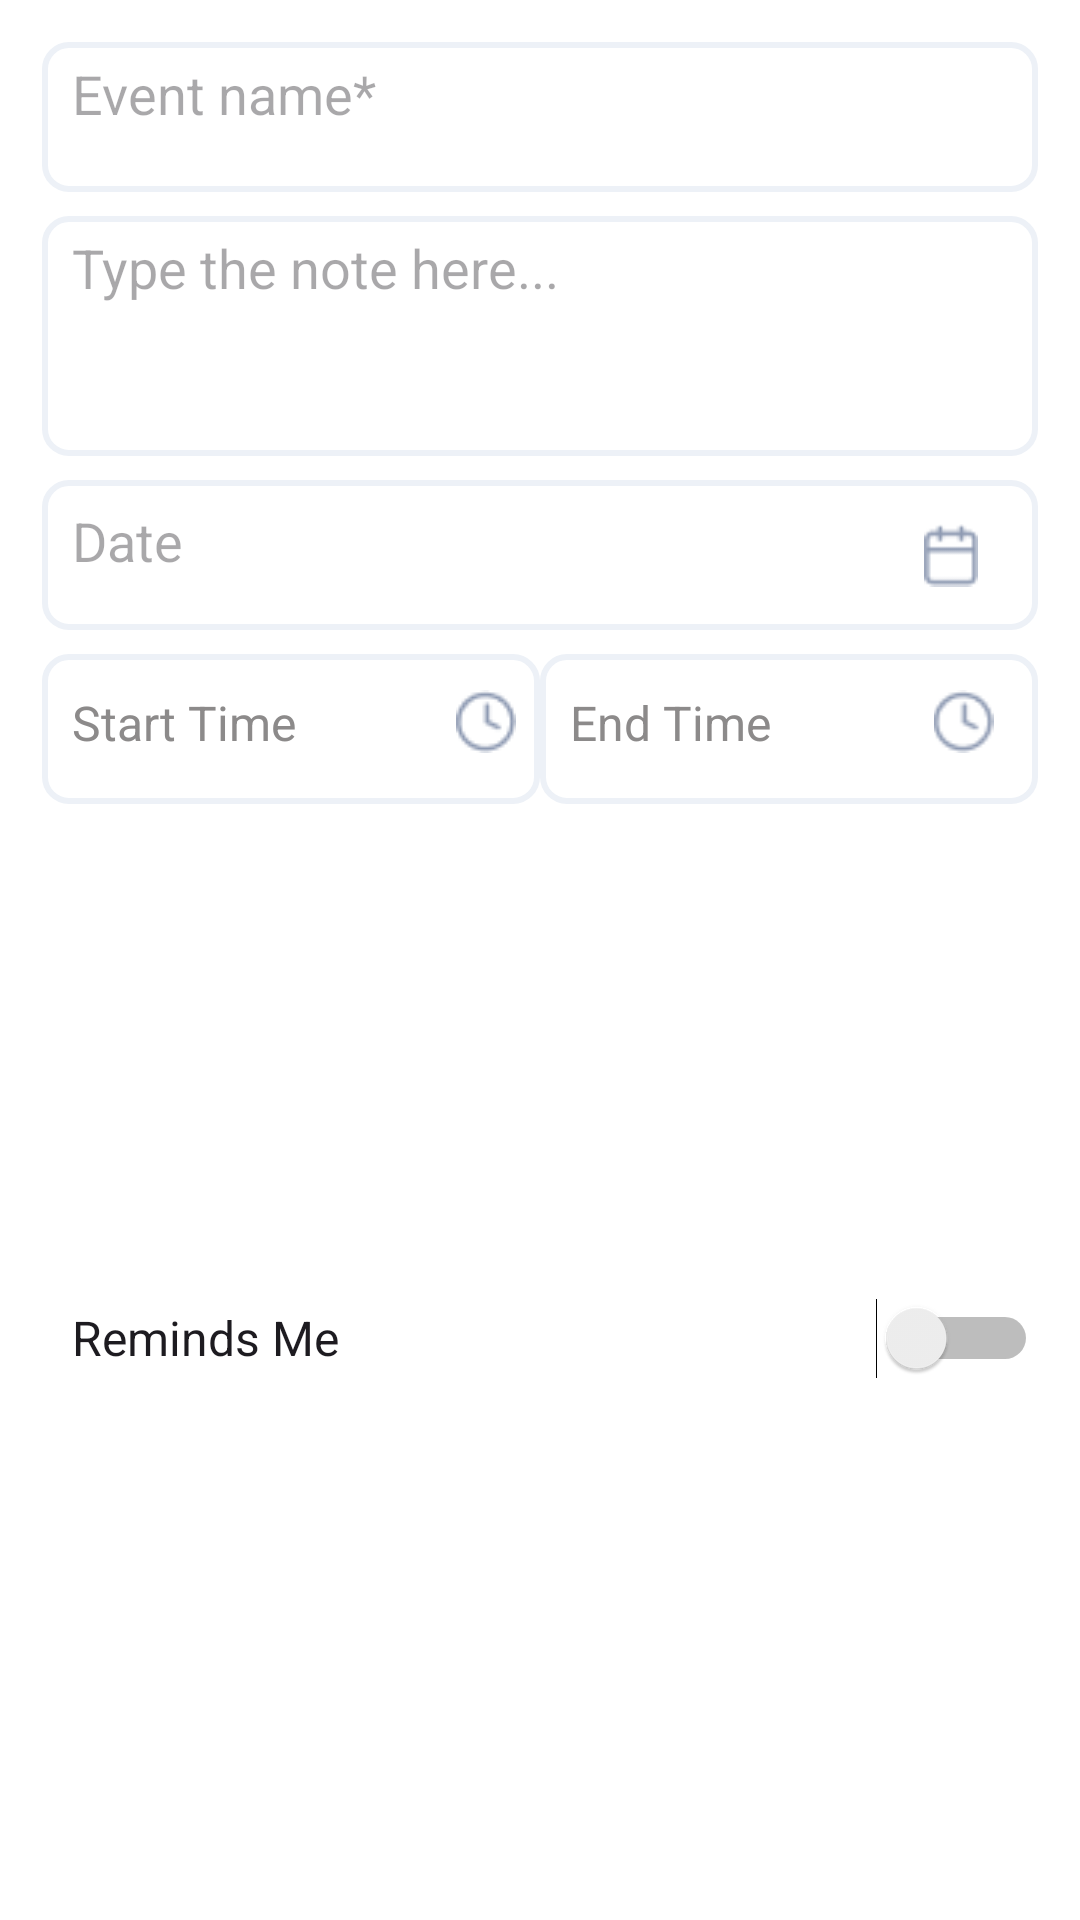

Named icons in this screenshot (1080px×1920px) and their centers, [x,y]:
calendar: [951,556]
